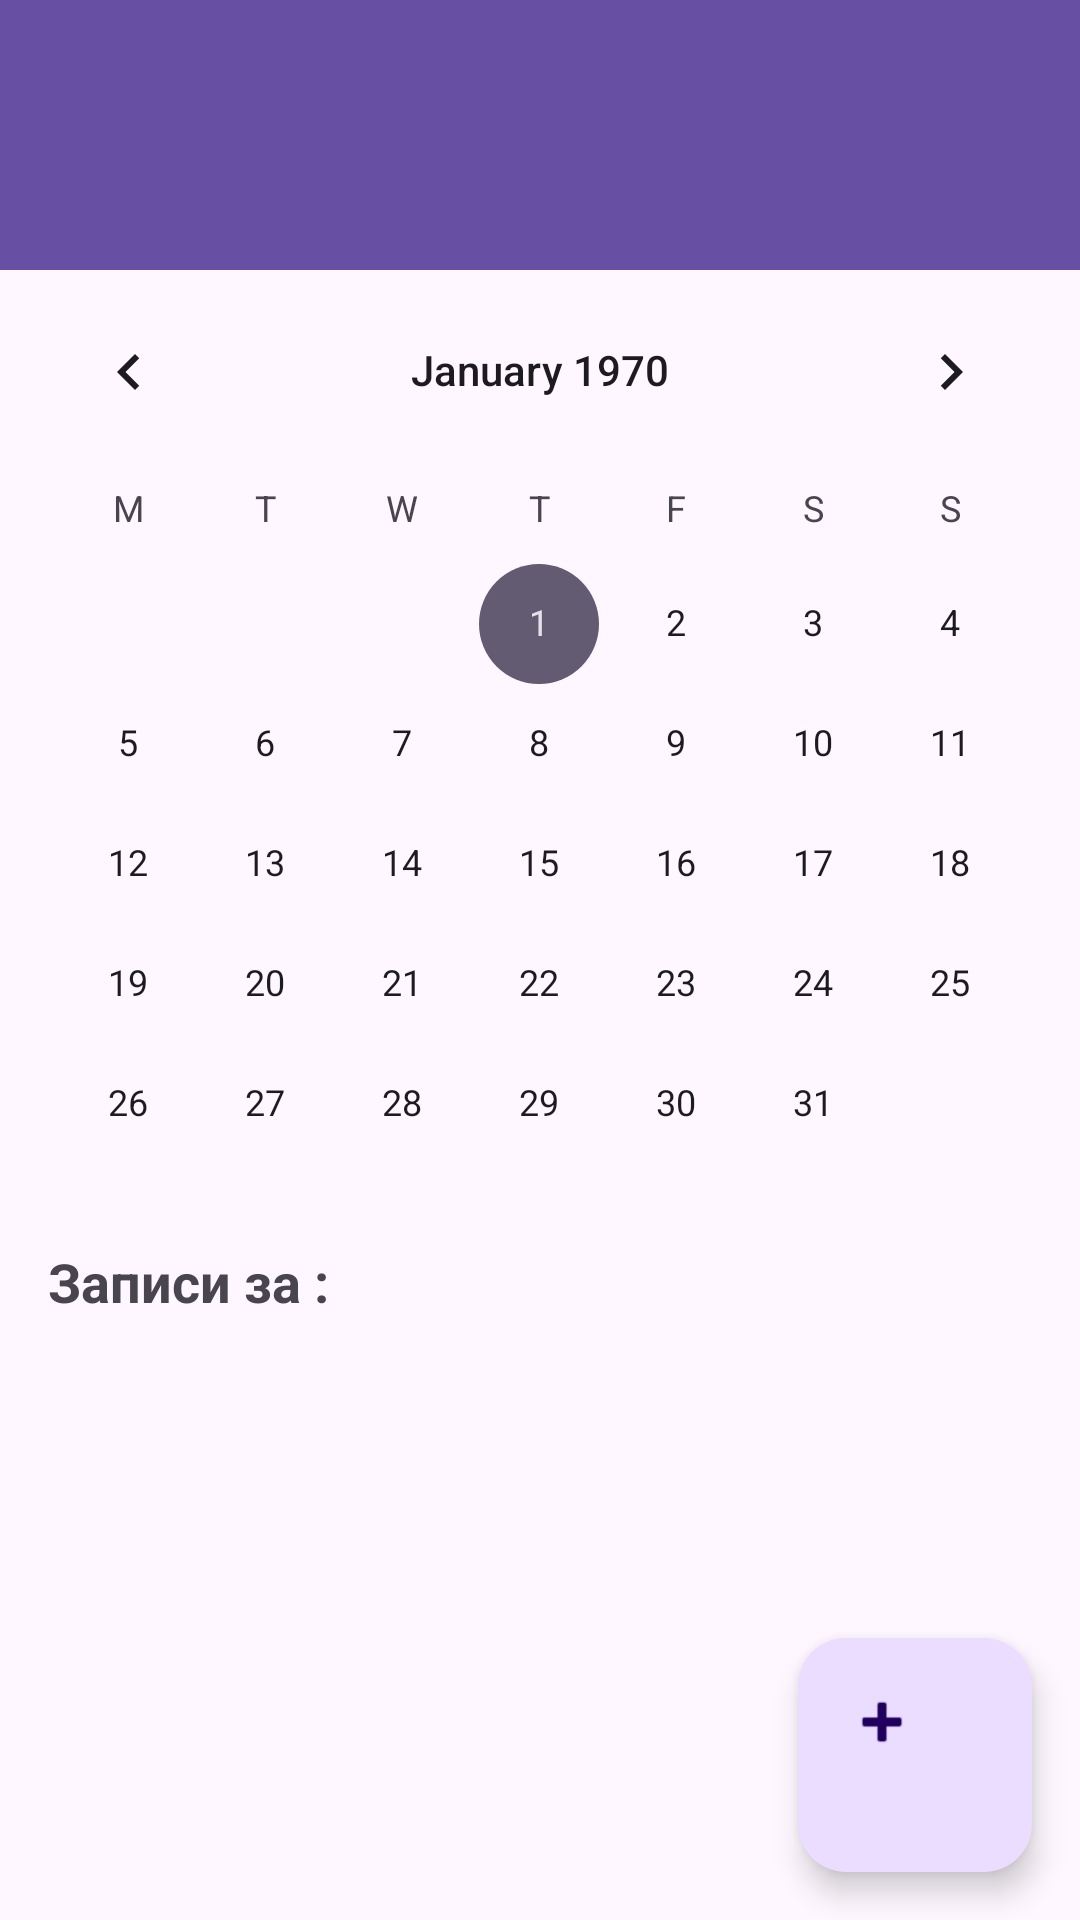

Icon click points for this 1080x1920 phone screenshot, format point (x, y):
Создать запись: point (915, 1755)
